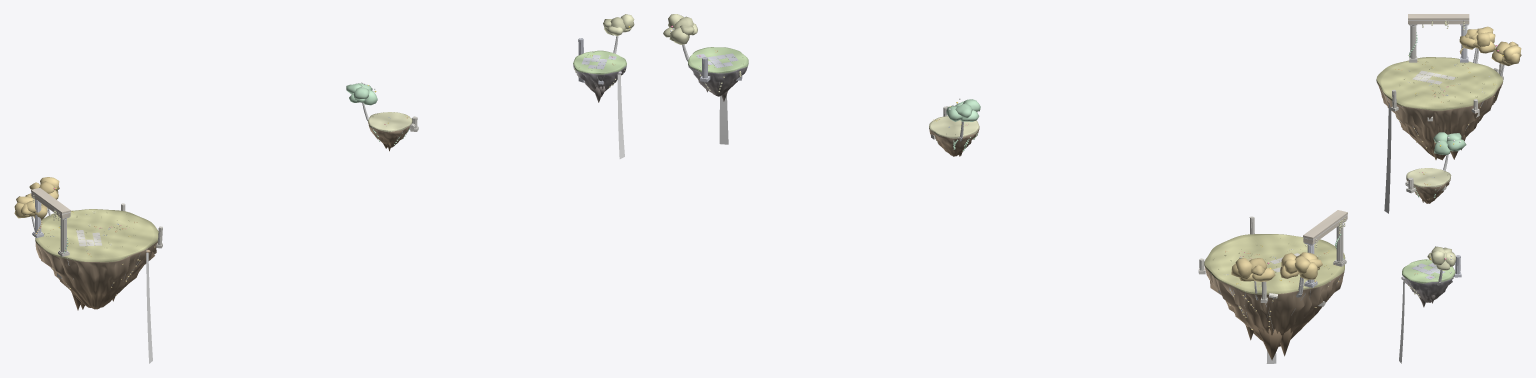
File: SM_Sky_A.fbx
The picture shows the model from 3 angles, left to right: view 1: azimuth 30°, elevation 25°; view 2: azimuth 150°, elevation 25°; view 3: azimuth 270°, elevation 25°; orthographic projection. The views are drawn at different scales.
Parts seen in each view (by area): view 1: SM_Sky_A; view 2: SM_Sky_A; view 3: SM_Sky_A.
Boxes of the visible parts, x1=… form: SM_Sky_A: x1=14, y1=14, x2=634, y2=363; SM_Sky_A: x1=663, y1=14, x2=1347, y2=363; SM_Sky_A: x1=1376, y1=14, x2=1521, y2=363.
Bounding box in the file's own units: 8044 × 2656 × 1704.
